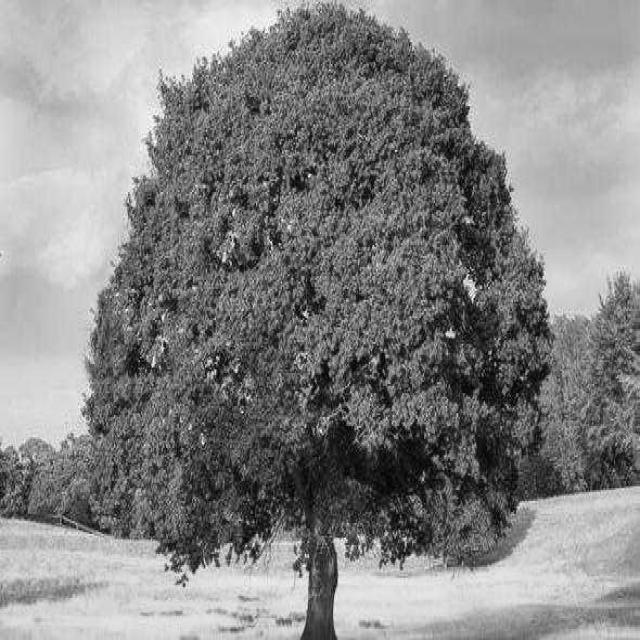Tree: (86, 7, 548, 638)
